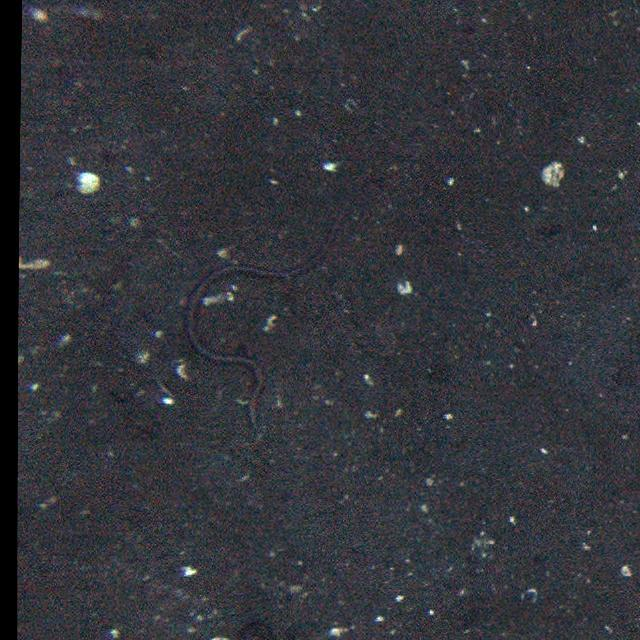eel: (183, 220, 347, 432)
